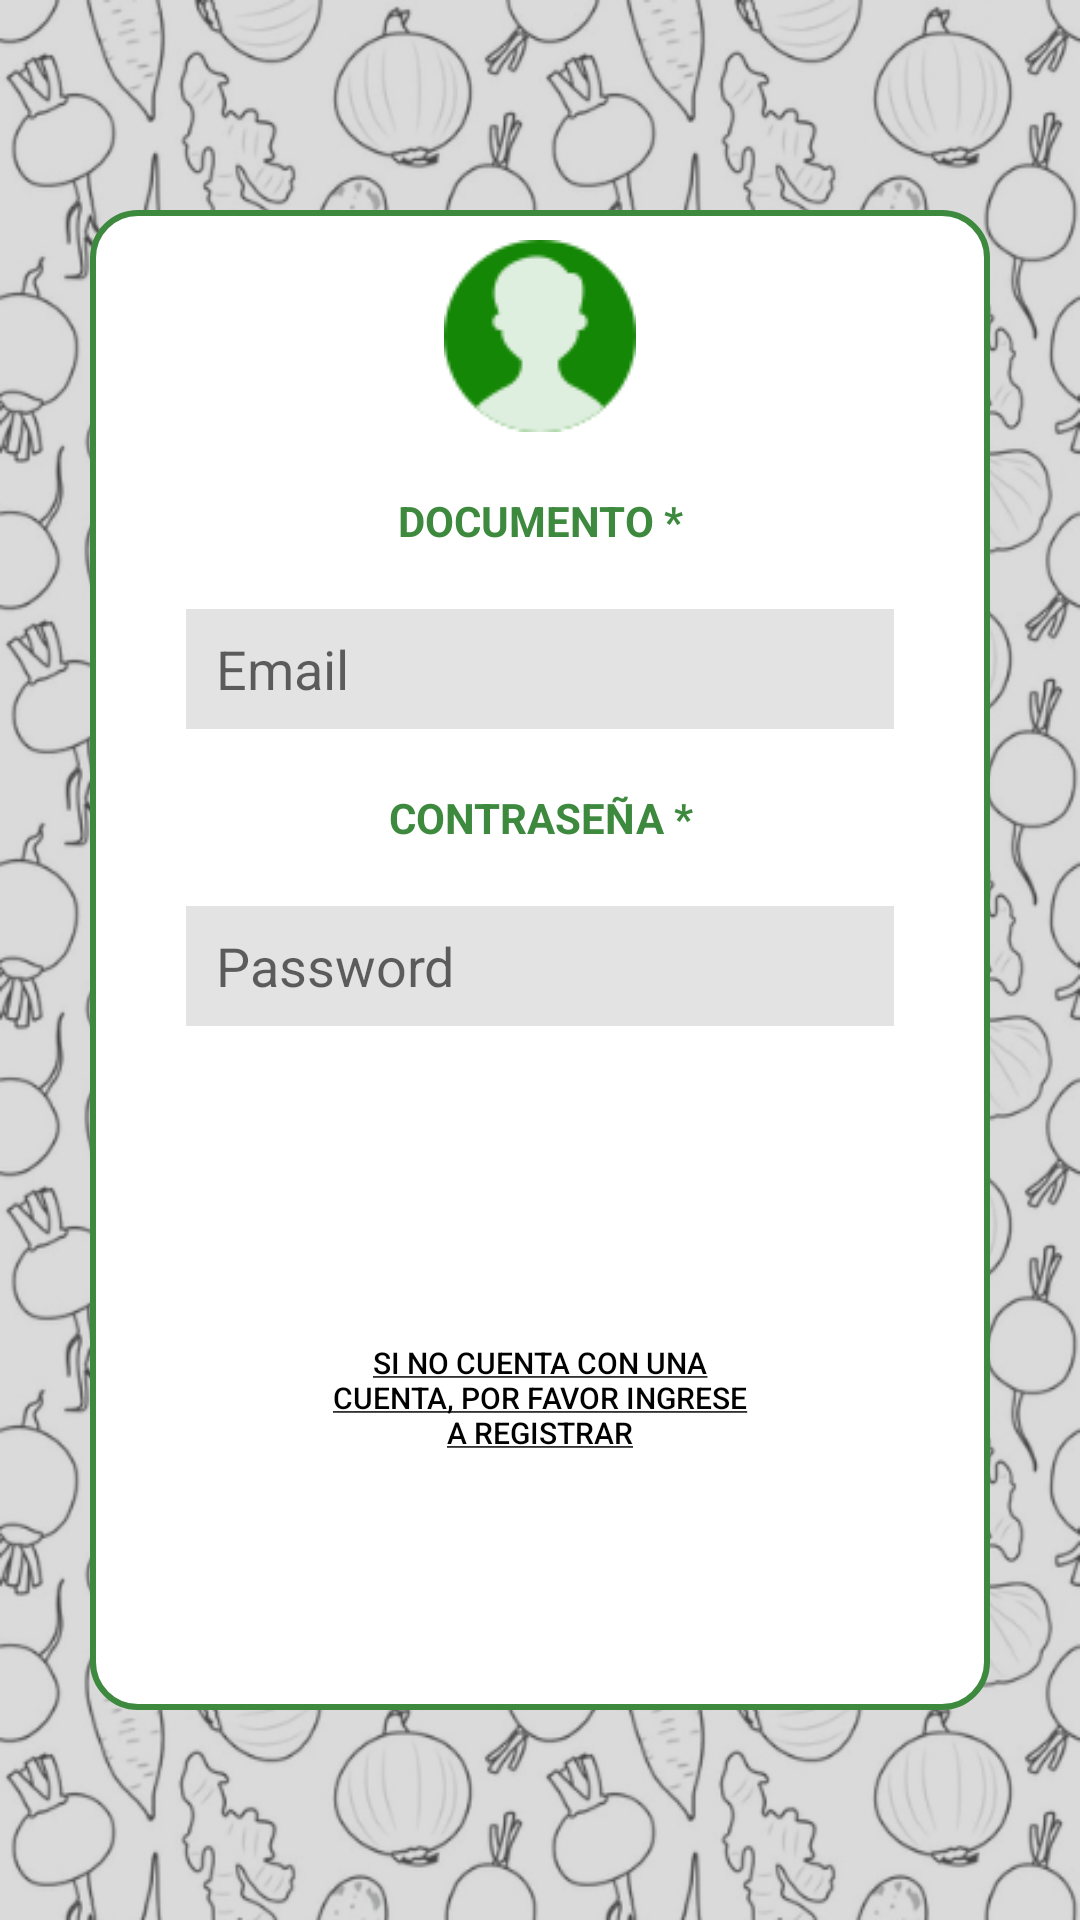

Where icons sit on this 1080x1920 app screen, as detection(x1, y1, x2, y2):
usuario: detection(444, 240, 636, 432)
